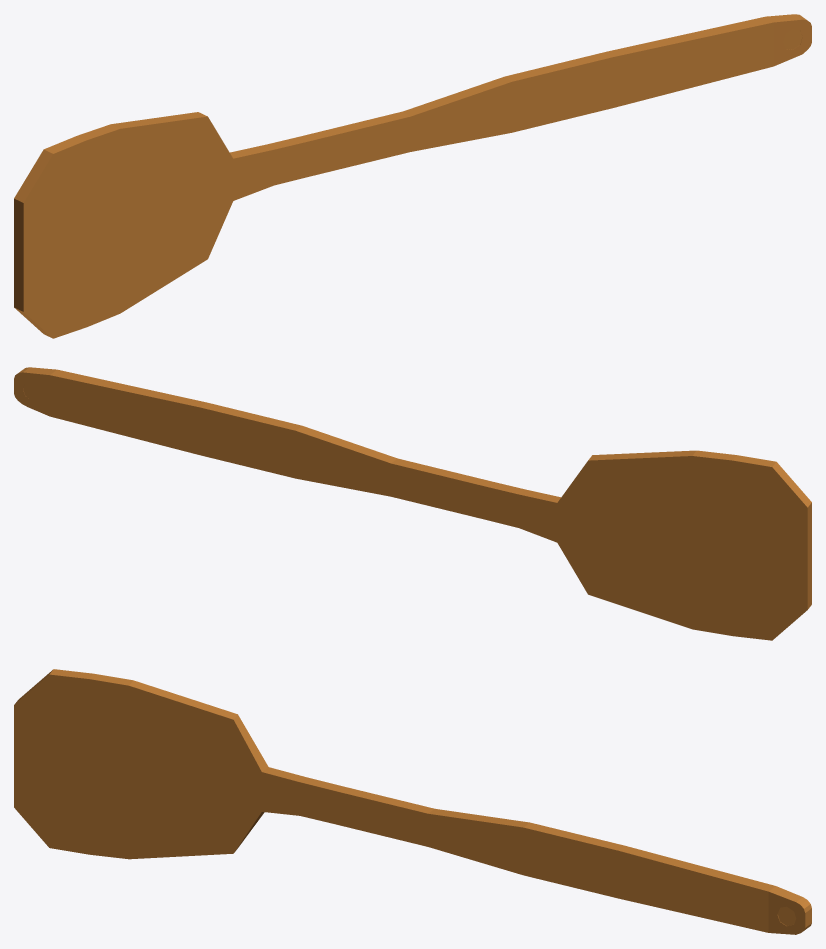
Rendered from Paddle.fbx.
3 renders of one model, top to bottom at view 1: azimuth 30°, elevation 25°; view 2: azimuth 150°, elevation 25°; view 3: azimuth 330°, elevation 25°, orthographic. The views are drawn at different scales.
Visible parts, largest first — view 1: Paddle; view 2: Paddle; view 3: Paddle.
Part boxes in pixels (x1,y1,x2,y2): Paddle: (14,14,811,338); Paddle: (14,367,811,640); Paddle: (14,669,811,934).
Bounding box in the file's own units: 976 × 213 × 72.1.
